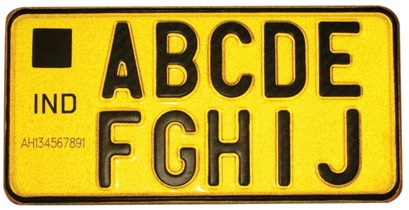doublelinenumberplate: (5, 7, 403, 204)
